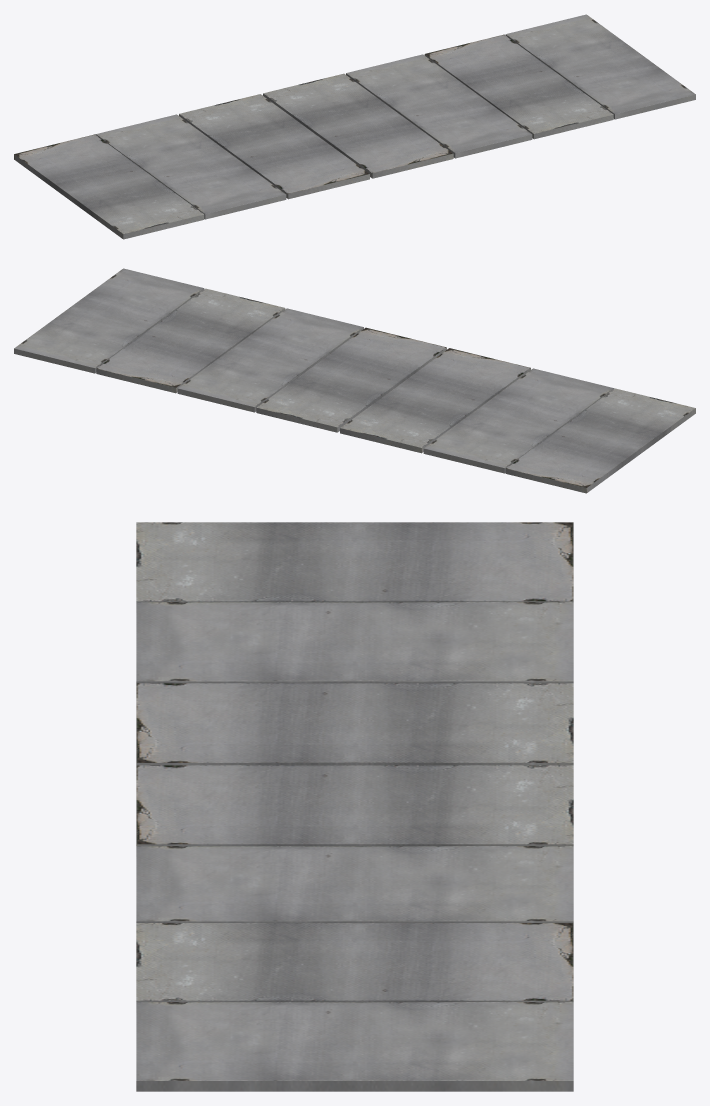
Rendered from plant-road-6.glb.
The picture shows the model from 3 angles, top to bottom: view 1: azimuth 30°, elevation 25°; view 2: azimuth 150°, elevation 25°; view 3: azimuth 270°, elevation 25°; orthographic projection. The views are drawn at different scales.
Visible parts, largest first — view 1: Object8935797; view 2: Object8935797; view 3: Object8935797.
Boxes of the visible parts, x1=… form: Object8935797: x1=14, y1=14, x2=695, y2=239; Object8935797: x1=14, y1=268, x2=695, y2=493; Object8935797: x1=136, y1=522, x2=573, y2=1091.
Bounding box in the file's own units: 19.24 × 0.1721 × 6.37.
1 material, 1 textured.
